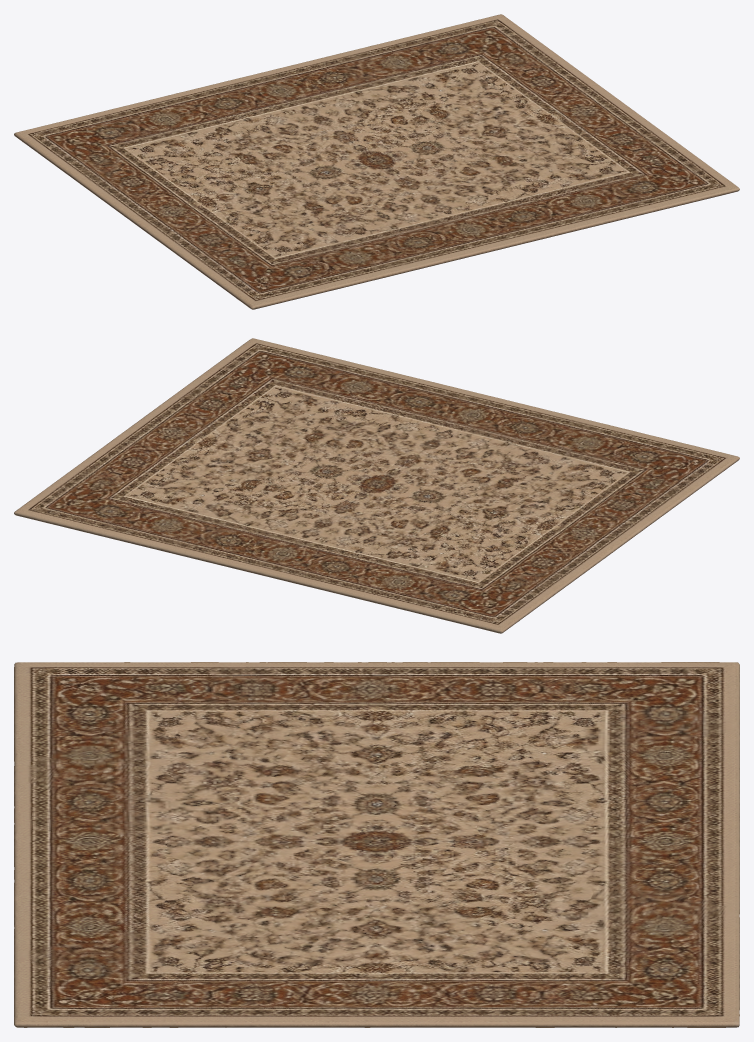
The model's file is Meshy_AI_Ornate_Beige_Persian__1014095717_texture.fbx.
3 renders of one model, top to bottom at view 1: azimuth 30°, elevation 25°; view 2: azimuth 150°, elevation 25°; view 3: azimuth 270°, elevation 25°, orthographic. The views are drawn at different scales.
Parts seen in each view (by area): view 1: Mesh_0; view 2: Mesh_0; view 3: Mesh_0.
Part boxes in pixels (x1=…): Mesh_0: x1=14, y1=14, x2=739, y2=309; Mesh_0: x1=14, y1=338, x2=739, y2=633; Mesh_0: x1=14, y1=662, x2=739, y2=1027.
Bounding box in the file's own units: 190 × 1.48 × 161.
1 material, 1 textured.
